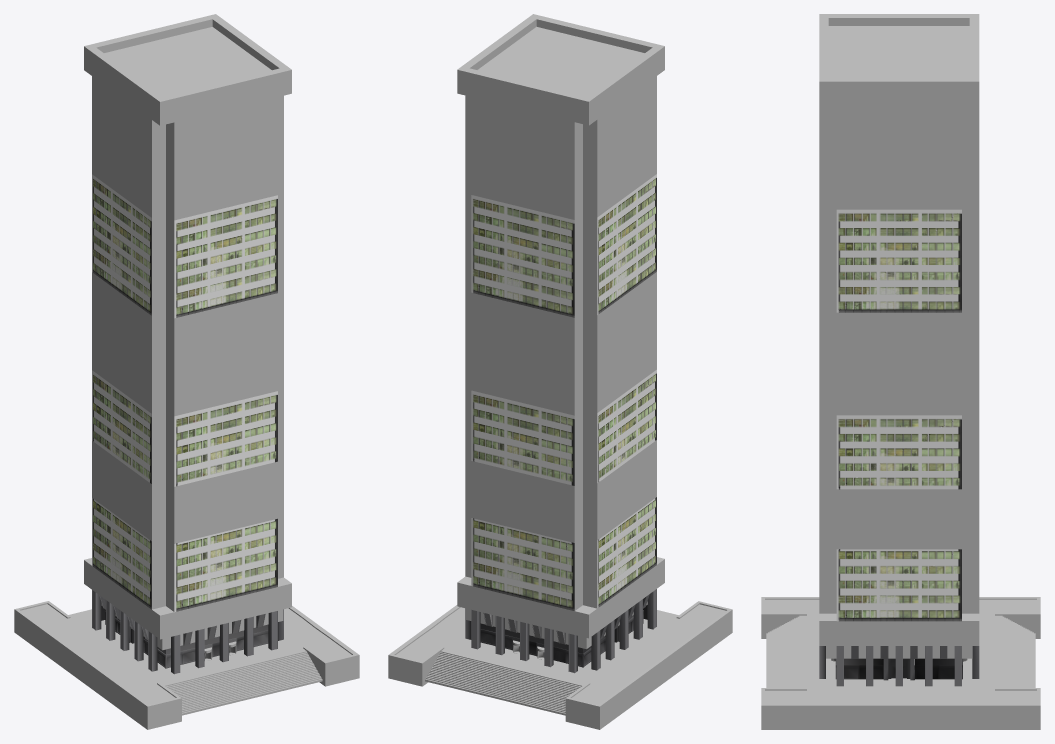
File: downtown_skyscraper_5.FBX
3 views of the same model, side by side, from view 1: azimuth 30°, elevation 25°; view 2: azimuth 150°, elevation 25°; view 3: azimuth 270°, elevation 25° (orthographic). The views are drawn at different scales.
Visible parts, largest first — view 1: downtown_skyscraper_5, em_win_dwtn_skyscraper_5, platform_dtw_skyscraper_5; view 2: downtown_skyscraper_5, em_win_dwtn_skyscraper_5, platform_dtw_skyscraper_5; view 3: downtown_skyscraper_5, em_win_dwtn_skyscraper_5, platform_dtw_skyscraper_5.
Boxes of the visible parts, x1,y1,x2,y2 form: downtown_skyscraper_5: [84, 14, 291, 674]; em_win_dwtn_skyscraper_5: [92, 174, 277, 612]; platform_dtw_skyscraper_5: [14, 601, 359, 729]; downtown_skyscraper_5: [457, 14, 664, 673]; em_win_dwtn_skyscraper_5: [471, 174, 656, 610]; platform_dtw_skyscraper_5: [388, 601, 732, 729]; downtown_skyscraper_5: [819, 14, 979, 686]; em_win_dwtn_skyscraper_5: [836, 209, 961, 621]; platform_dtw_skyscraper_5: [761, 597, 1040, 729].
Size of the model in its own units: 346 by 934 by 377.
